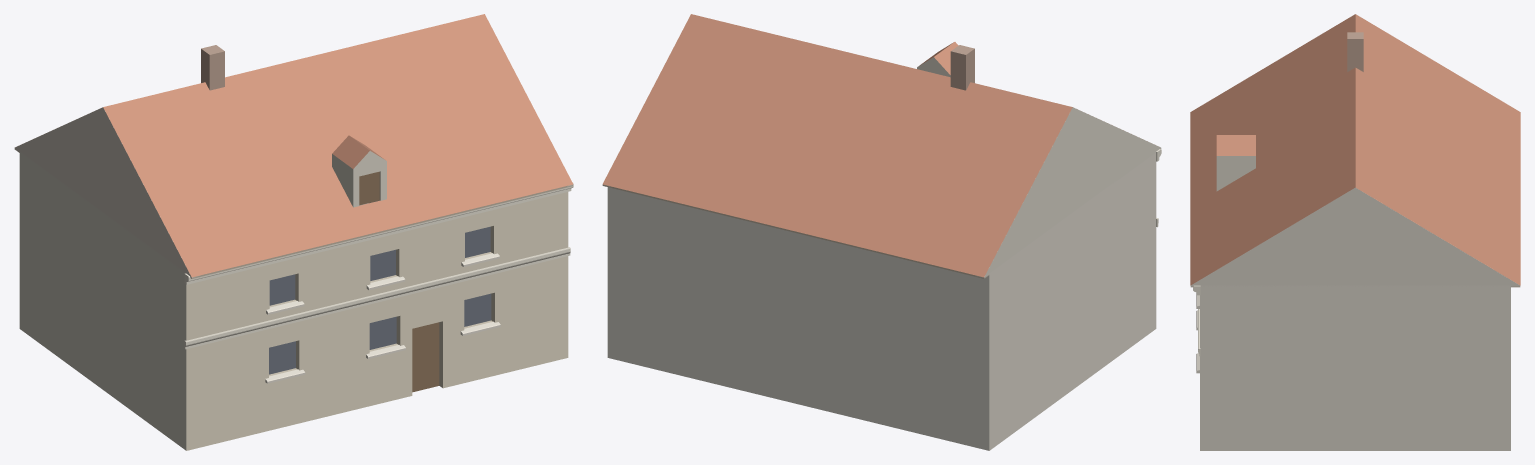
The picture shows the model from 3 angles, left to right: view 1: azimuth 30°, elevation 25°; view 2: azimuth 150°, elevation 25°; view 3: azimuth 270°, elevation 25°; orthographic projection. The views are drawn at different scales.
Parts seen in each view (by area): view 1: CP_421_Masonry, CP_421_Roof, CP_421_Gable_L_gable, CP_421_Cornice_string_0, CP_421_Dormer_HD, CP_421_Cornice_main_0, CP_421_Chimney_0, CP_421_Roof_EaveClosure_1; view 2: CP_421_Masonry, CP_421_Roof, CP_421_Gable_L_gable, CP_421_Chimney_0, CP_421_Roof_EaveClosure_0, CP_421_Dormer_HD; view 3: CP_421_Roof, CP_421_Masonry, CP_421_Gable_R_gable, CP_421_Dormer_HD, CP_421_Chimney_0.
Part boxes in pixels (<box>): CP_421_Masonry: <box>19,152,568,450</box>; CP_421_Roof: <box>41,14,572,277</box>; CP_421_Gable_L_gable: <box>14,107,200,277</box>; CP_421_Cornice_string_0: <box>184,247,570,349</box>; CP_421_Dormer_HD: <box>332,135,386,207</box>; CP_421_Cornice_main_0: <box>184,182,573,284</box>; CP_421_Chimney_0: <box>201,45,224,90</box>; CP_421_Roof_EaveClosure_1: <box>191,185,572,278</box>; CP_421_Masonry: <box>607,153,1156,450</box>; CP_421_Roof: <box>603,14,1147,277</box>; CP_421_Gable_L_gable: <box>975,107,1161,278</box>; CP_421_Chimney_0: <box>950,45,974,90</box>; CP_421_Roof_EaveClosure_0: <box>602,184,988,278</box>; CP_421_Dormer_HD: <box>917,42,958,77</box>; CP_421_Roof: <box>1190,14,1520,285</box>; CP_421_Masonry: <box>1200,285,1510,450</box>; CP_421_Gable_R_gable: <box>1190,187,1520,286</box>; CP_421_Dormer_HD: <box>1216,135,1255,191</box>; CP_421_Chimney_0: <box>1347,32,1363,71</box>.
Size of the model in its own units: 12.6 by 9.8 by 10.06.
